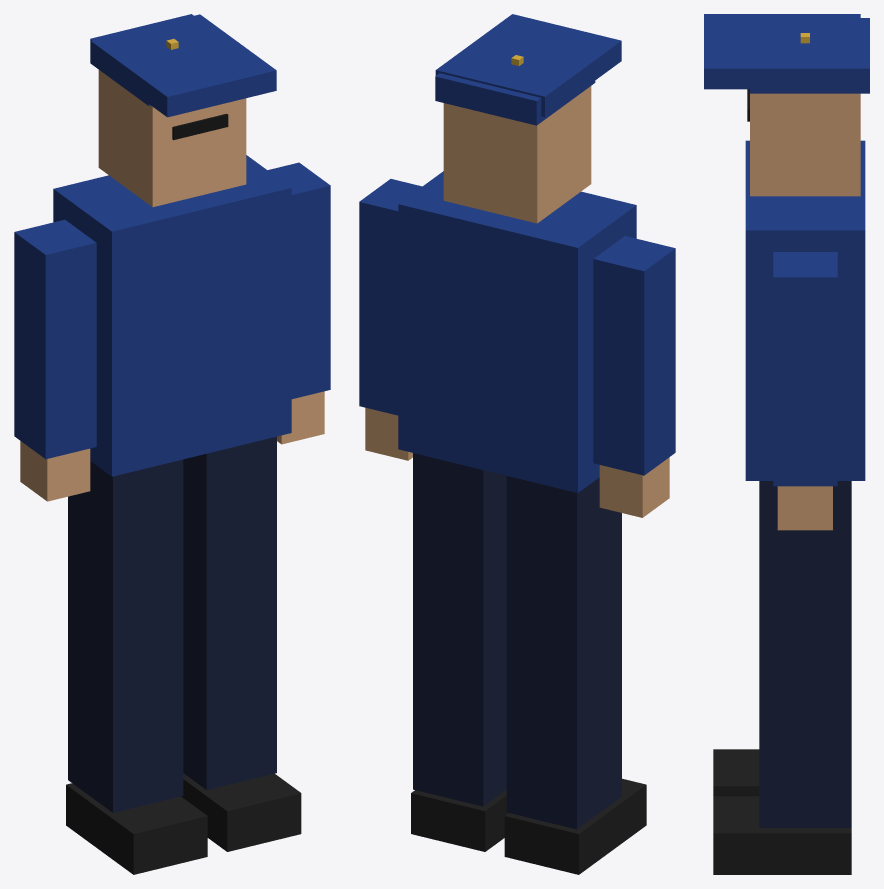
File: cop.glb
3 renders of one model, left to right at view 1: azimuth 30°, elevation 25°; view 2: azimuth 150°, elevation 25°; view 3: azimuth 270°, elevation 25°, orthographic. The views are drawn at different scales.
Parts seen in each view (by area): view 1: torso, leg_r, leg_l, head, arm_r, arm_l; view 2: torso, leg_r, leg_l, head, arm_r, arm_l; view 3: leg_l, head, torso, arm_l, leg_r.
Part boxes in pixels (x1,y1,x2,y2): torso: (53,155,291,476); leg_r: (66,459,207,874); leg_l: (181,436,301,851); head: (90,14,276,207); arm_r: (14,219,96,501); arm_l: (267,162,330,444); torso: (398,171,636,492); leg_r: (504,476,646,874); leg_l: (411,453,508,851); head: (435,14,621,223); arm_r: (593,236,675,517); arm_l: (359,179,422,460); leg_l: (713,481,851,874); head: (704,14,869,196); torso: (745,140,865,480); arm_l: (773,252,837,530); leg_r: (713,749,759,796).
Size of the model in its own units: 0.73 by 1.91 by 0.36.
